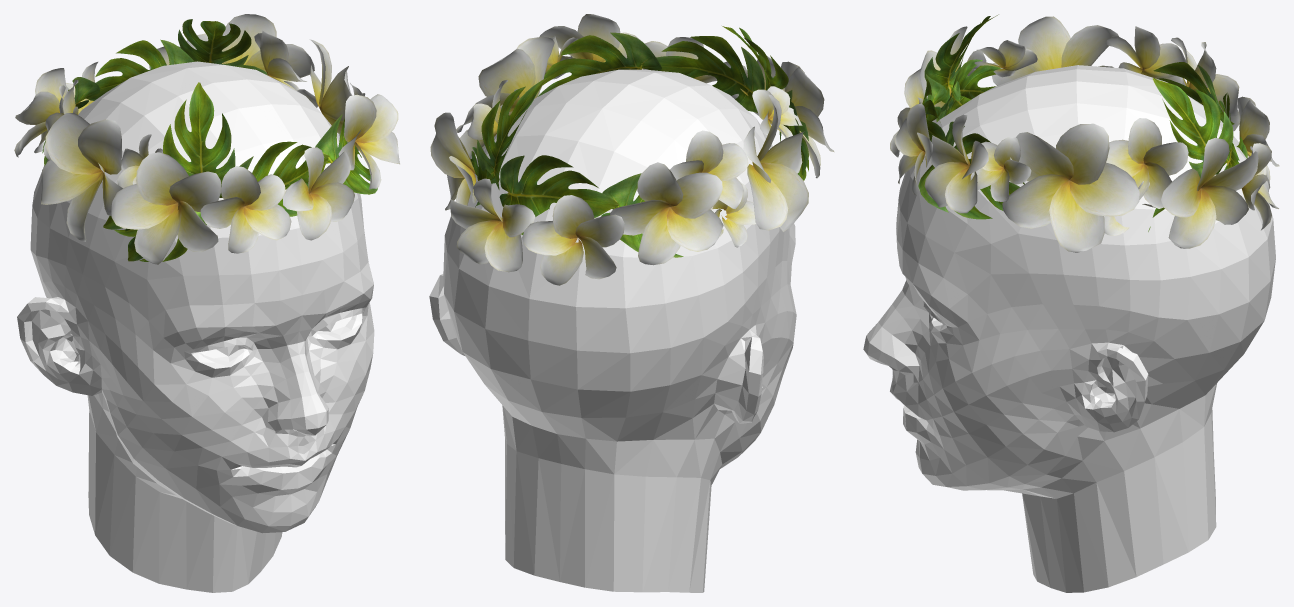
Rendered from huahuan.fbx.
3 views of the same model, side by side, from view 1: azimuth 30°, elevation 25°; view 2: azimuth 150°, elevation 25°; view 3: azimuth 270°, elevation 25° (orthographic). The views are drawn at different scales.
Parts seen in each view (by area): view 1: head, huahuan; view 2: head, huahuan; view 3: head, huahuan.
Part boxes in pixels (box(x1,y1,x2,y2)): head: box(17, 61, 374, 592); huahuan: box(14, 14, 399, 264); head: box(429, 69, 796, 592); huahuan: box(430, 14, 834, 285); head: box(863, 65, 1275, 592); huahuan: box(890, 14, 1279, 252).
Size of the model in its own units: 0.1869 by 0.2961 by 0.2085.
2 materials, 2 textured.
